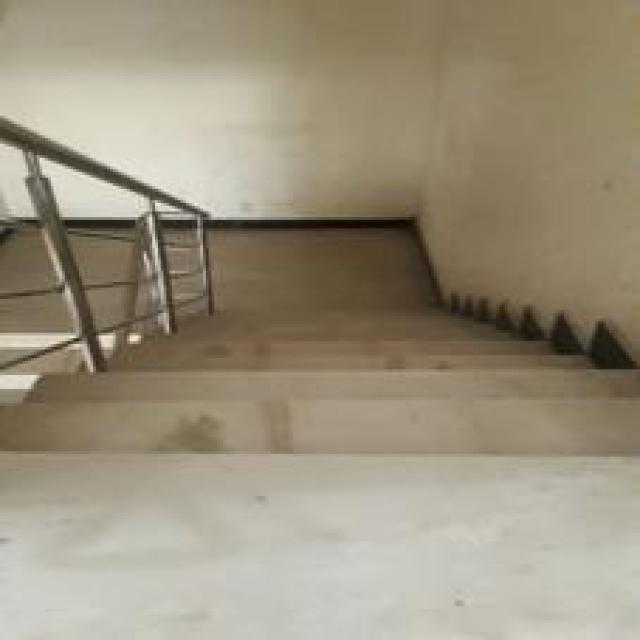downstair: (114, 311, 525, 531)
